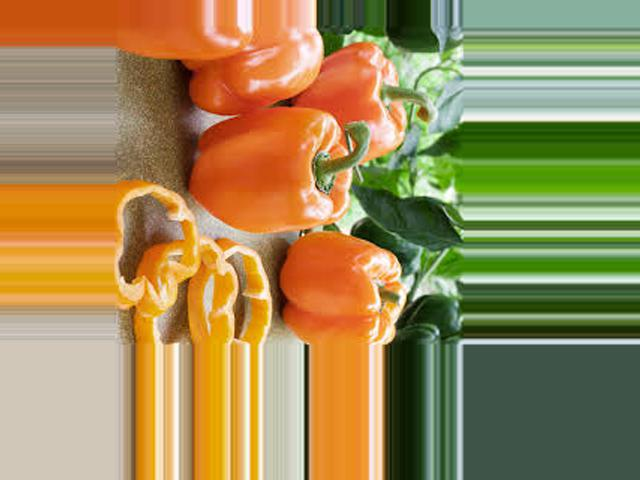bell_pepper: (177, 28, 326, 112)
